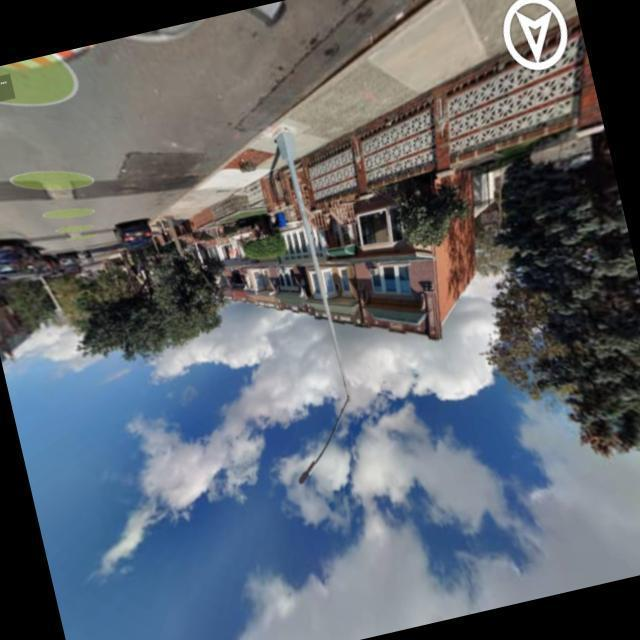off: (275, 345, 376, 518)
